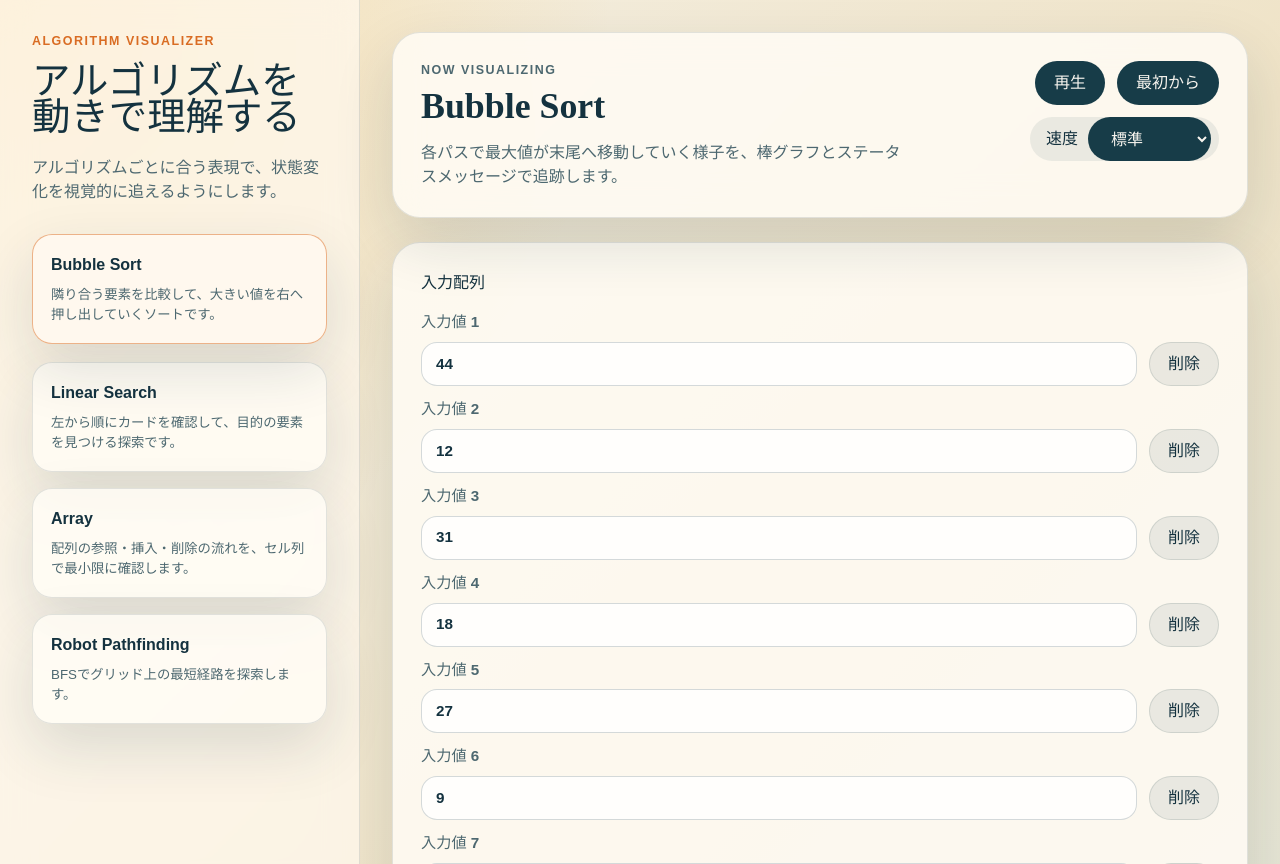
Test: Robot Pathfinding UI › Reset returns to initial phase, message, robot position
Click the button "Robot Pathfinding BFSでグリッド上の最短経路を探索します。": (180,669) 32,614 -> 327,724
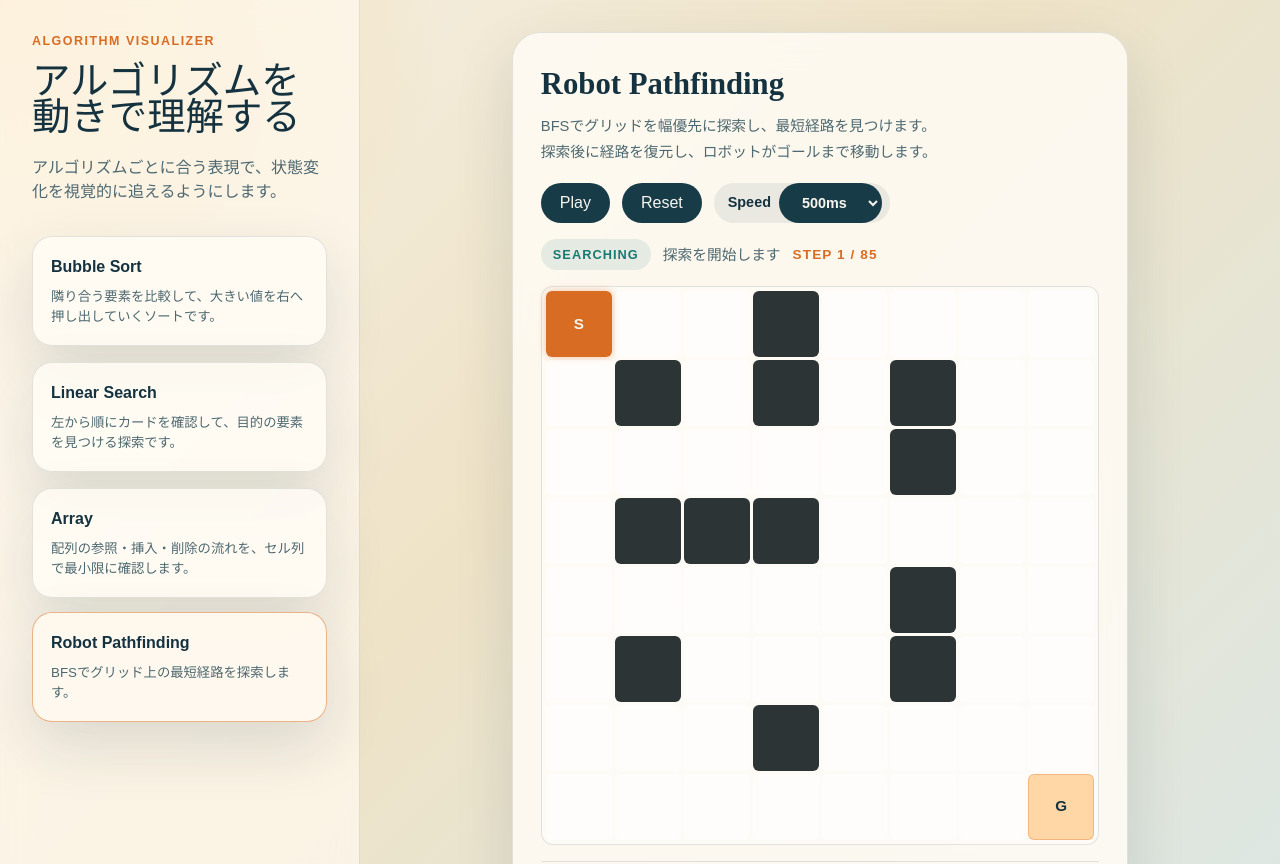
Click the button with test id "robot-pathfinding-play-pause": (575,203) 541,183 -> 610,223
Wait 2000 ms
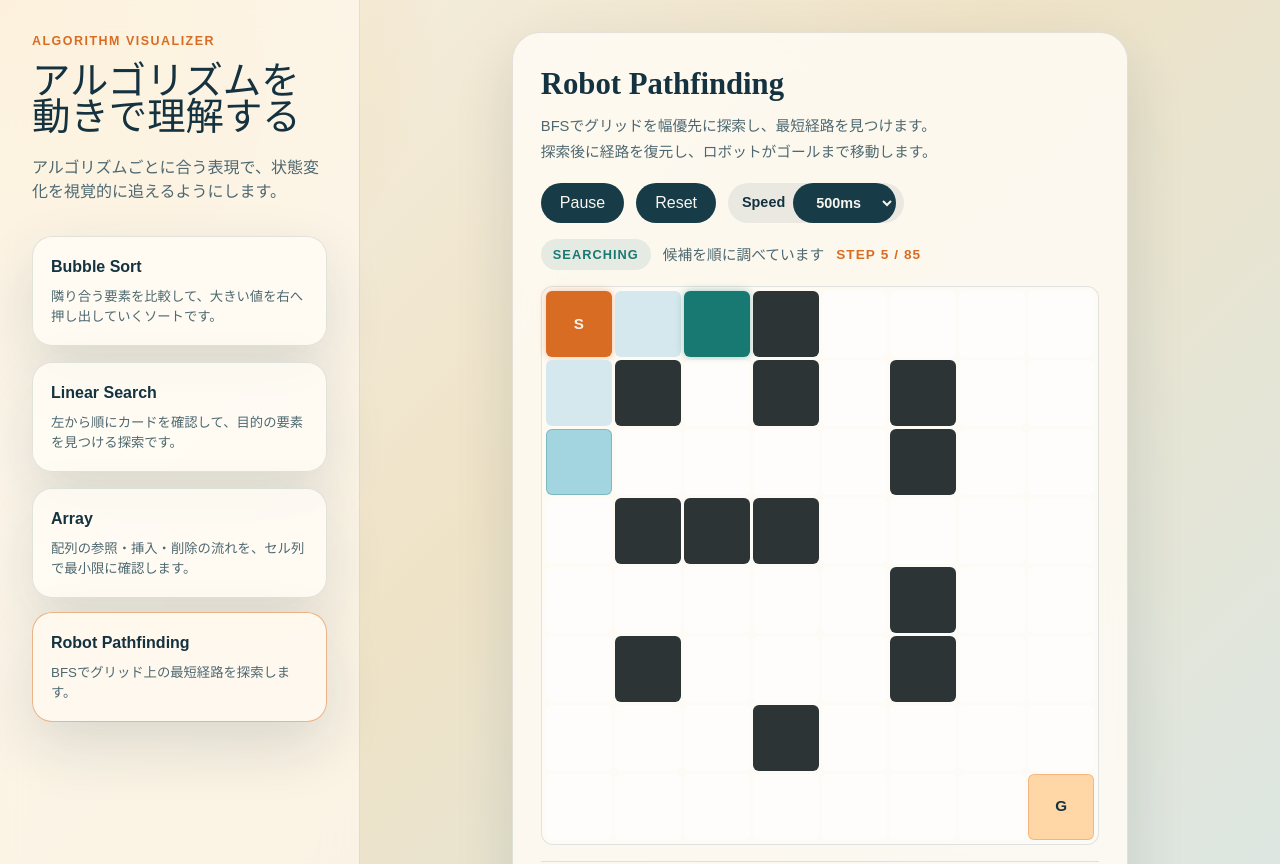
Click the button with test id "robot-pathfinding-reset": (676,203) 636,183 -> 716,223
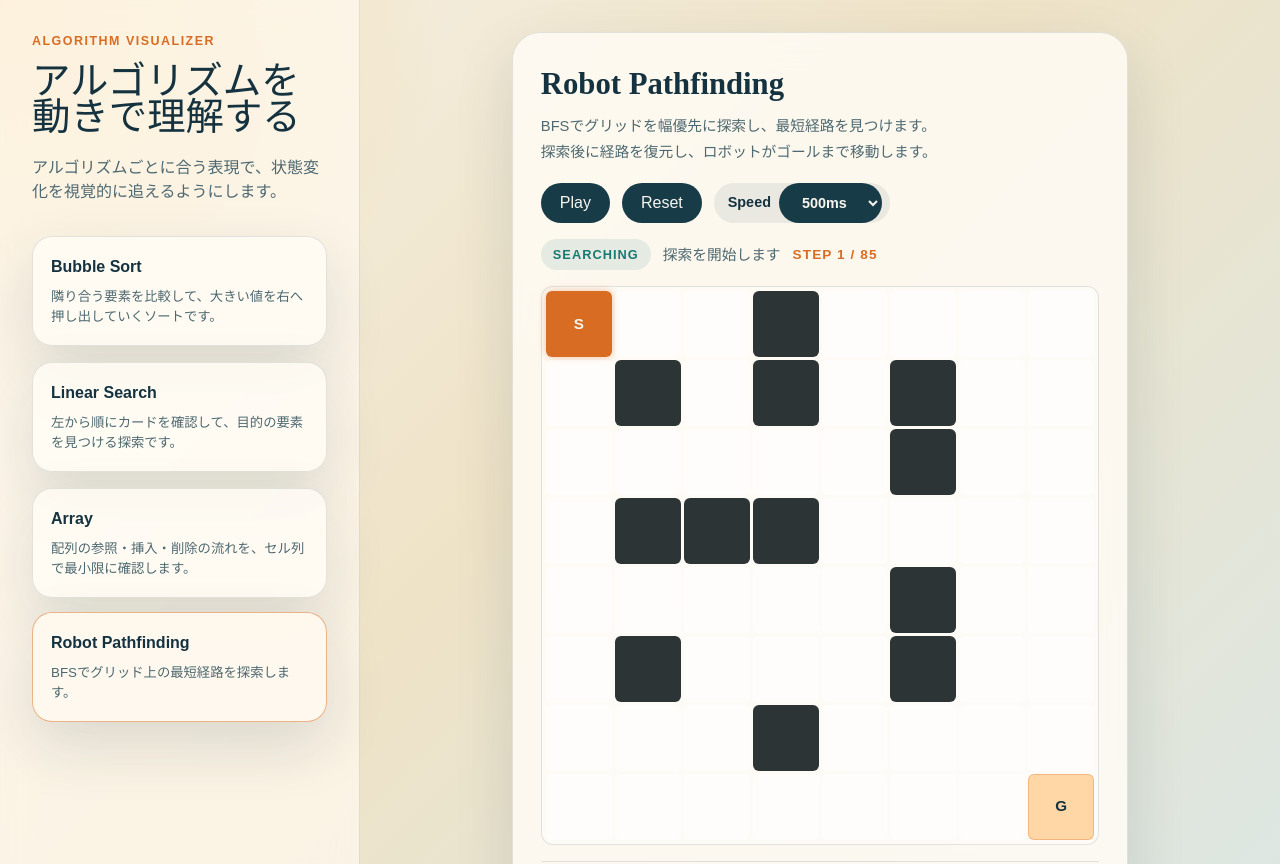
Check: the text with test id "robot-pathfinding-phase" reads "Searching", box 553,247 -> 639,262
Check: the text with test id "robot-pathfinding-status" reads "探索を開始します", box 663,247 -> 781,263
